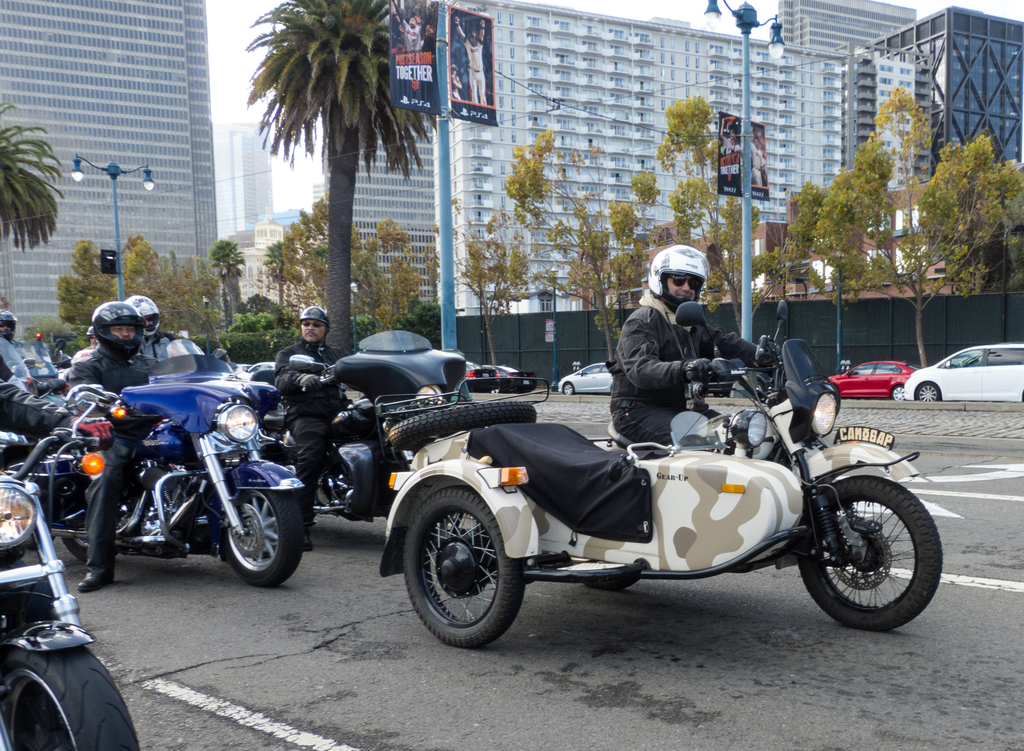mobil: (894, 338, 1024, 417)
motor: (599, 298, 926, 679), (77, 323, 327, 592)
